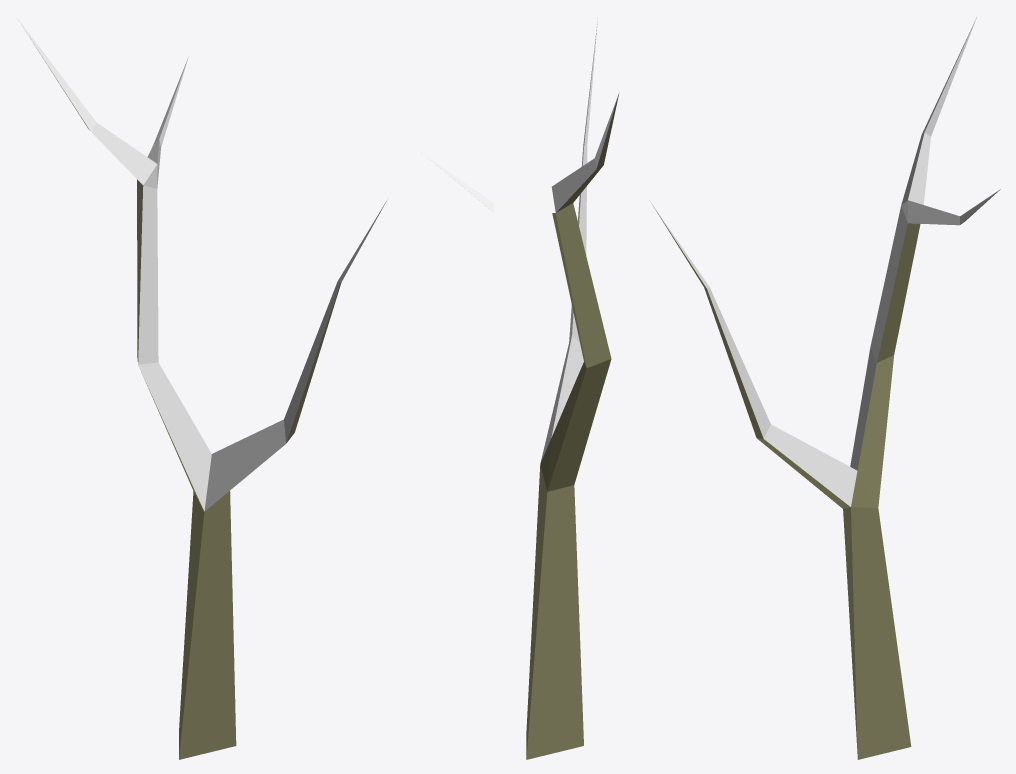
File: Dead_Tree_s_Snow_04_LOD.fbx
3 renders of one model, left to right at view 1: azimuth 30°, elevation 25°; view 2: azimuth 150°, elevation 25°; view 3: azimuth 270°, elevation 25°, orthographic. The views are drawn at different scales.
Visible parts, largest first — view 1: Dead_Tree_s_Snow_04_LOD0; view 2: Dead_Tree_s_Snow_04_LOD0; view 3: Dead_Tree_s_Snow_04_LOD0.
Boxes of the visible parts, x1,y1,x2,y2 form: Dead_Tree_s_Snow_04_LOD0: (16, 16, 386, 759); Dead_Tree_s_Snow_04_LOD0: (419, 18, 619, 759); Dead_Tree_s_Snow_04_LOD0: (649, 16, 1000, 759).
Size of what is drawn, in the model's own units: 71.78 by 250 by 119.
